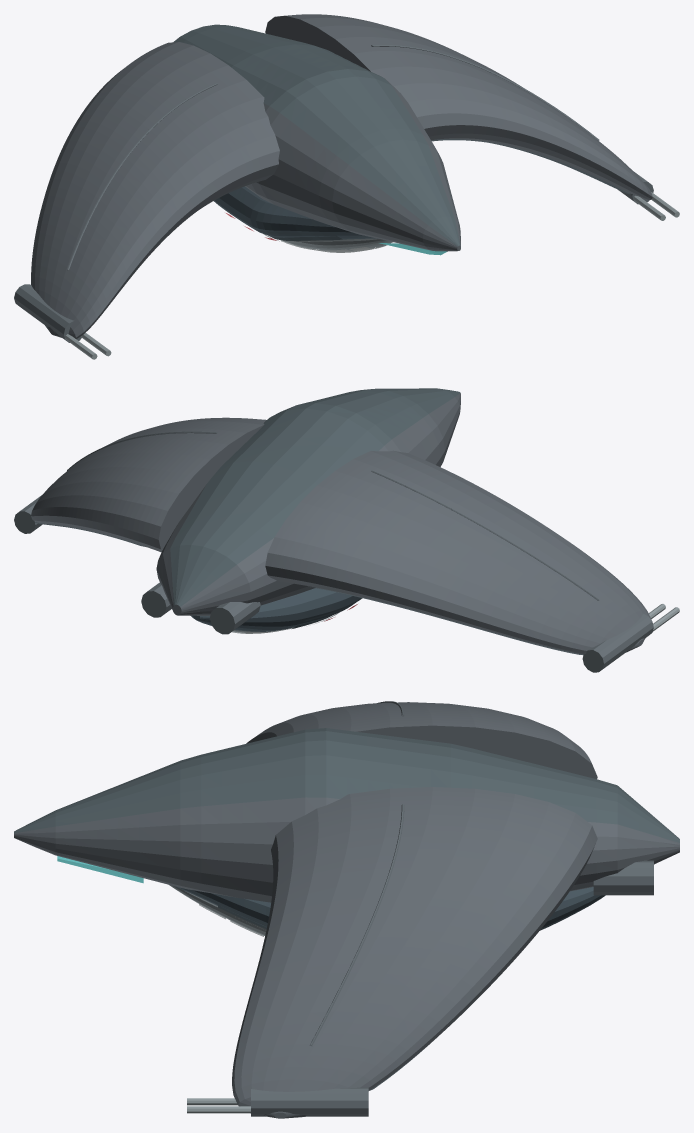
File: ambwe_black_off.glb
3 views of the same model, one above another, from view 1: azimuth 30°, elevation 25°; view 2: azimuth 150°, elevation 25°; view 3: azimuth 270°, elevation 25° (orthographic). The views are drawn at different scales.
Parts seen in each view (by area): view 1: material_0, material_1, material_2, material_9, material_11, material_3, material_5; view 2: material_0, material_1, material_9, material_2, material_10; view 3: material_0, material_1, material_9, material_2, material_11, material_3.
Part boxes in pixels (x1,y1,x2,y2): material_0: [31, 14, 652, 339]; material_1: [173, 24, 460, 246]; material_2: [214, 186, 377, 239]; material_9: [14, 44, 653, 342]; material_11: [65, 192, 679, 359]; material_3: [283, 238, 392, 251]; material_5: [214, 200, 342, 240]; material_0: [31, 393, 651, 654]; material_1: [170, 388, 460, 606]; material_9: [14, 431, 653, 672]; material_2: [190, 588, 361, 631]; material_10: [35, 522, 583, 654]; material_0: [14, 702, 679, 1118]; material_1: [14, 728, 679, 842]; material_9: [251, 701, 653, 1116]; material_2: [174, 886, 605, 930]; material_11: [187, 1098, 250, 1113]; material_3: [169, 885, 266, 935].
Bounding box in the file's own units: 4.65 × 1.35 × 3.85.
